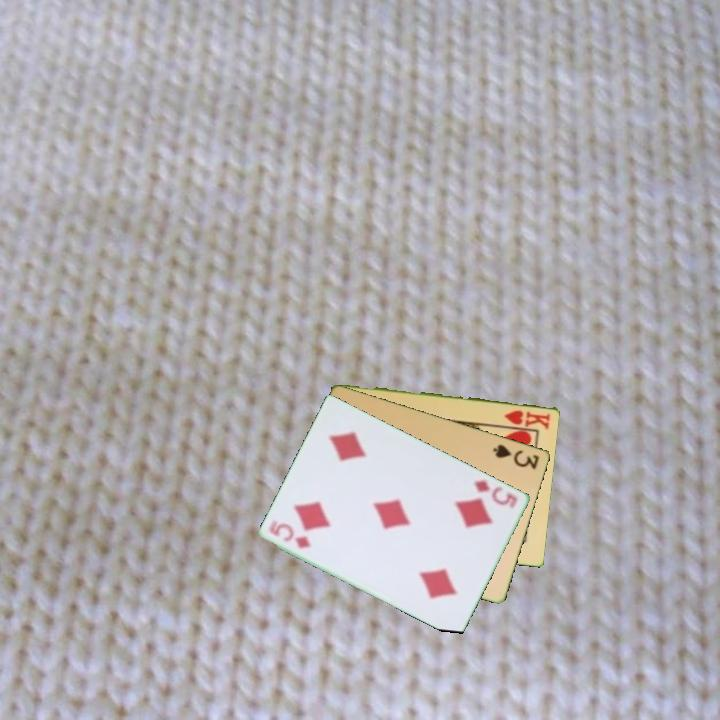3s: (490, 440, 542, 472)
5d: (471, 476, 521, 511), (266, 516, 314, 551)
Kh: (501, 406, 553, 431)
